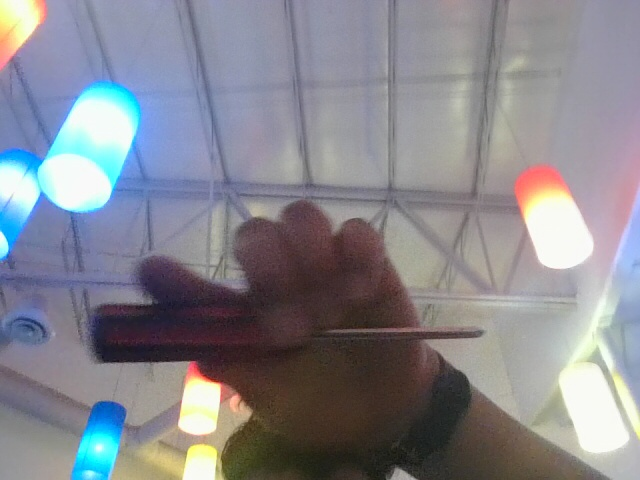destornillador: (88, 217, 489, 388), (86, 267, 489, 386)
